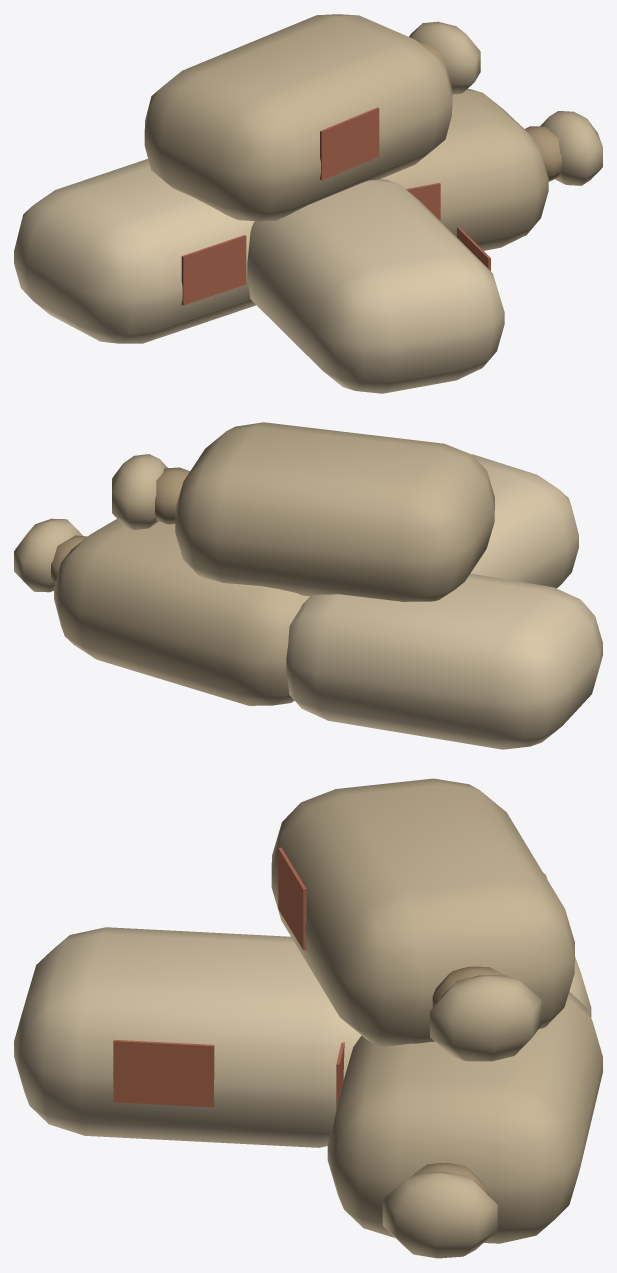
The model's file is sack_pile.glb.
3 renders of one model, top to bottom at view 1: azimuth 30°, elevation 25°; view 2: azimuth 150°, elevation 25°; view 3: azimuth 270°, elevation 25°, orthographic. The views are drawn at different scales.
Visible parts, largest first — view 1: sack_pile; view 2: sack_pile; view 3: sack_pile.
Boxes of the visible parts, box(x1,y1,x2,y2) form: sack_pile: box(14, 14, 602, 393); sack_pile: box(14, 422, 602, 749); sack_pile: box(14, 778, 602, 1258).
Size of the model in its own units: 0.9603 by 0.37 by 0.6988.
